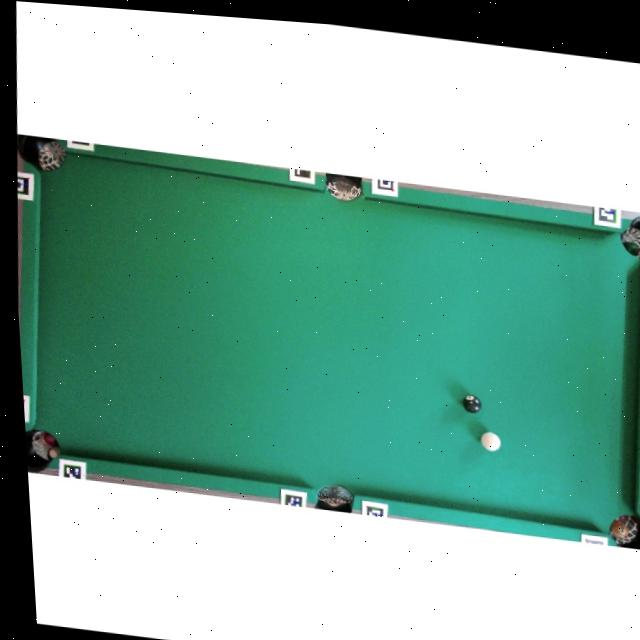cue ball: (478, 430, 503, 454)
other: (462, 393, 483, 415)
